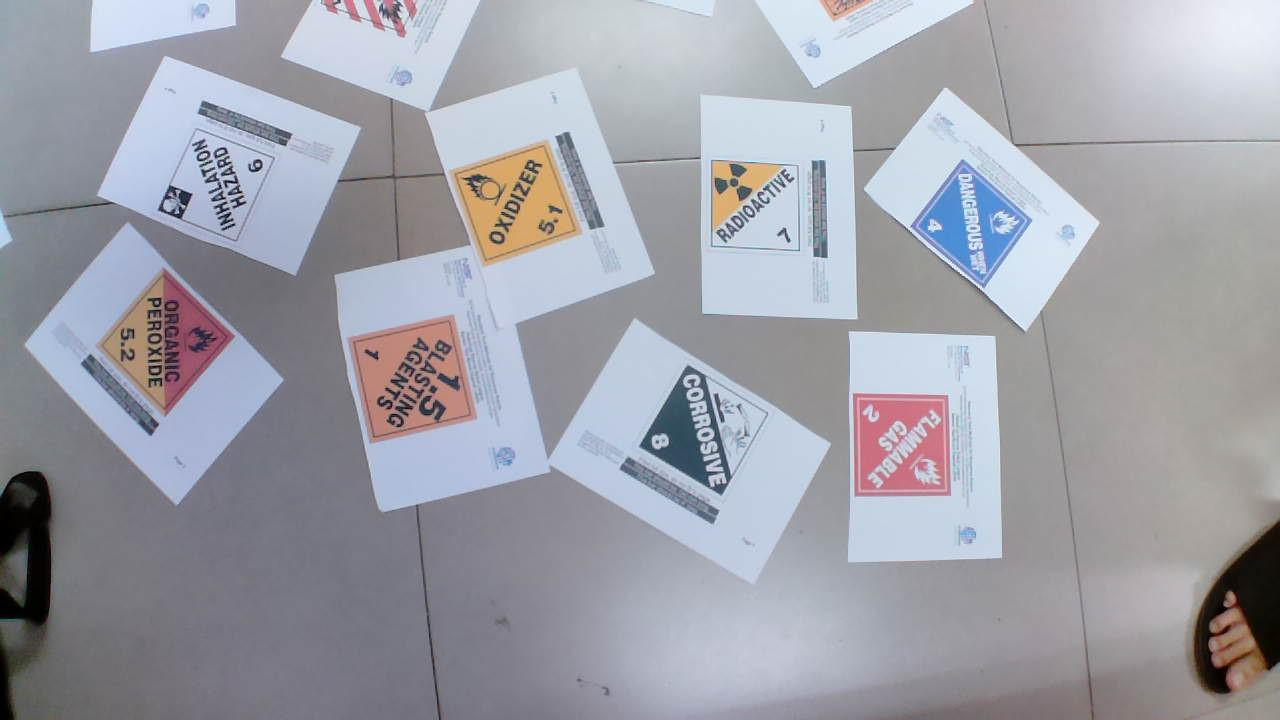corrosive: (642, 361, 778, 496)
dangerous-when-wet: (913, 166, 1041, 289)
explosive: (337, 313, 483, 449)
flammable: (850, 380, 963, 501)
flammable-solid: (317, 1, 434, 44)
organic-peroxide: (100, 270, 237, 412)
oxidizer: (438, 136, 581, 263)
poison: (158, 125, 282, 244)
radioactive: (698, 153, 811, 256)
